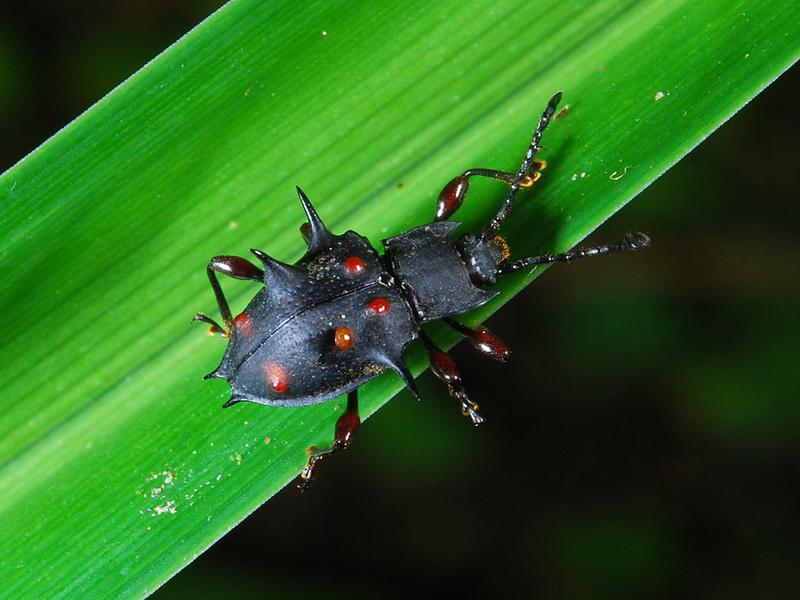Spiny_beetle: (189, 134, 591, 481)
